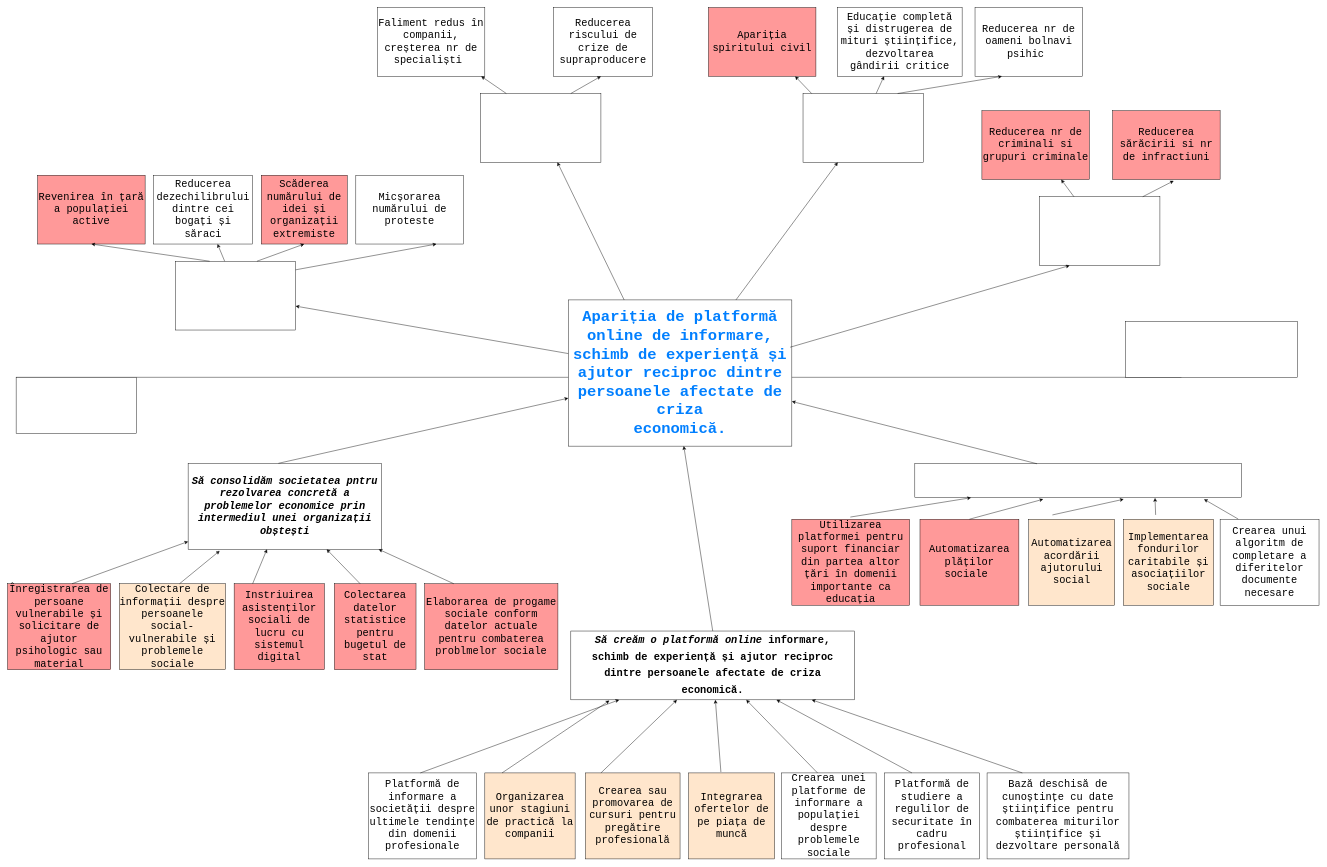
This 1327x867 diagram has some shape labels left out. The shapes that lost their labels are listed below. From the top down, each one's centre as x and y in pixels, then its label:
At (540,127): "Dezvoltare stabilă a economiei".
At (863,127): "Creșterea nivelului intelectual al societății".
At (1099,231): "Scăderea criminalității".
At (235,295): "Micșorarea inegalității sociale".
At (1211,349): "REZULTATE".
At (76,405): "OBIECTIVE".
At (1078,480): "Componenta de optimizare și gestionare a resurselor financiare și materiale".
